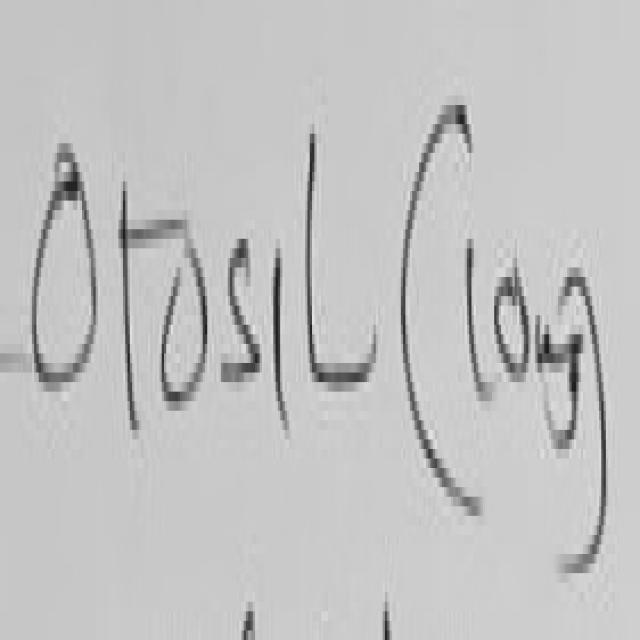0: (493, 213, 535, 414)
1: (455, 195, 495, 428)
I: (264, 188, 296, 488)
L: (292, 82, 380, 448)
O: (20, 104, 109, 462), (148, 167, 212, 450)
S: (217, 185, 266, 462)
T: (110, 128, 148, 476)
g: (558, 284, 585, 509)
m: (531, 277, 557, 386)
